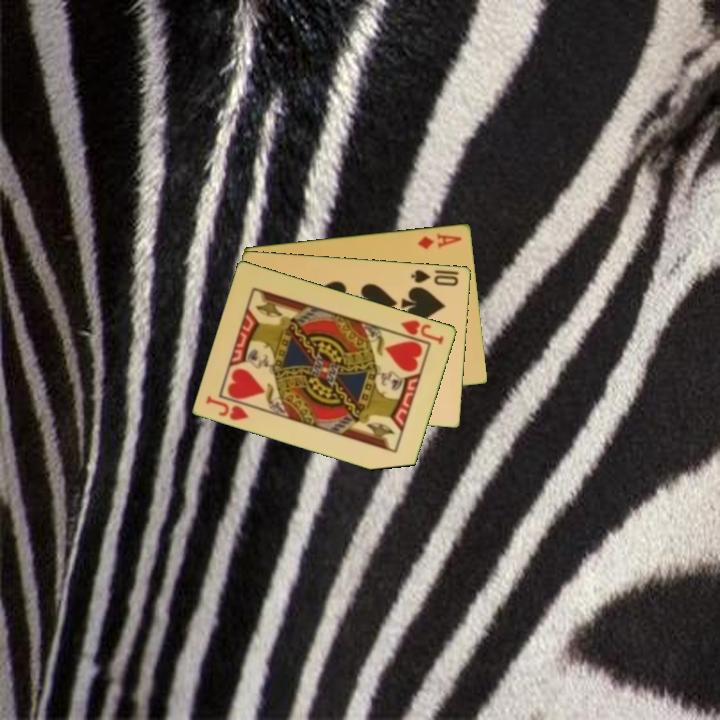10s: (408, 266, 461, 289)
Ad: (415, 229, 465, 252)
Jh: (391, 316, 447, 347), (203, 392, 253, 423)
